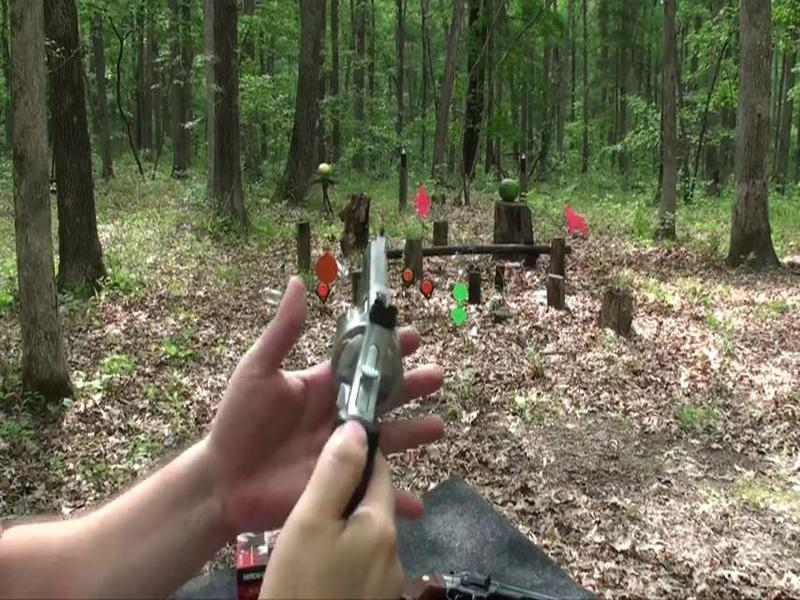Revolver: (278, 231, 432, 454)
